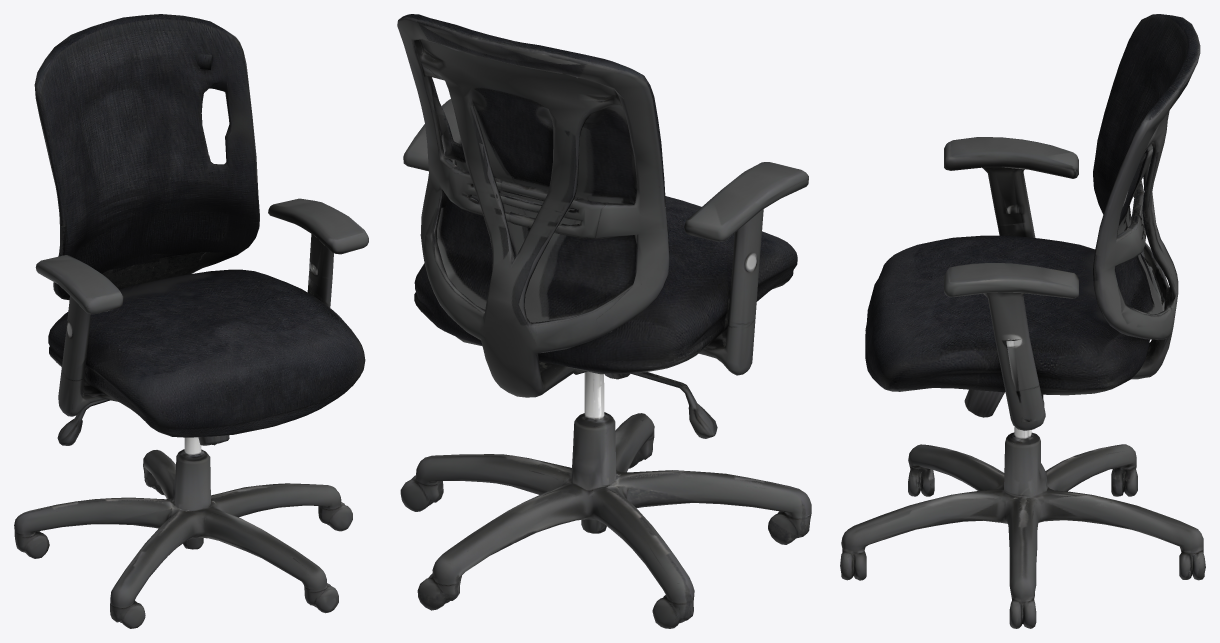
The model's file is office_chair_0124032324_texture.glb.
The picture shows the model from 3 angles, left to right: view 1: azimuth 30°, elevation 25°; view 2: azimuth 150°, elevation 25°; view 3: azimuth 270°, elevation 25°; orthographic projection. The views are drawn at different scales.
Parts seen in each view (by area): view 1: Mesh_0; view 2: Mesh_0; view 3: Mesh_0.
Boxes of the visible parts, left/top/right/bottom form: Mesh_0: left=14, top=14, right=368, bottom=628; Mesh_0: left=397, top=14, right=811, bottom=628; Mesh_0: left=840, top=14, right=1205, bottom=628.
Bounding box in the file's own units: 0.5851 × 0.9017 × 0.5869.
1 material, 1 textured.
